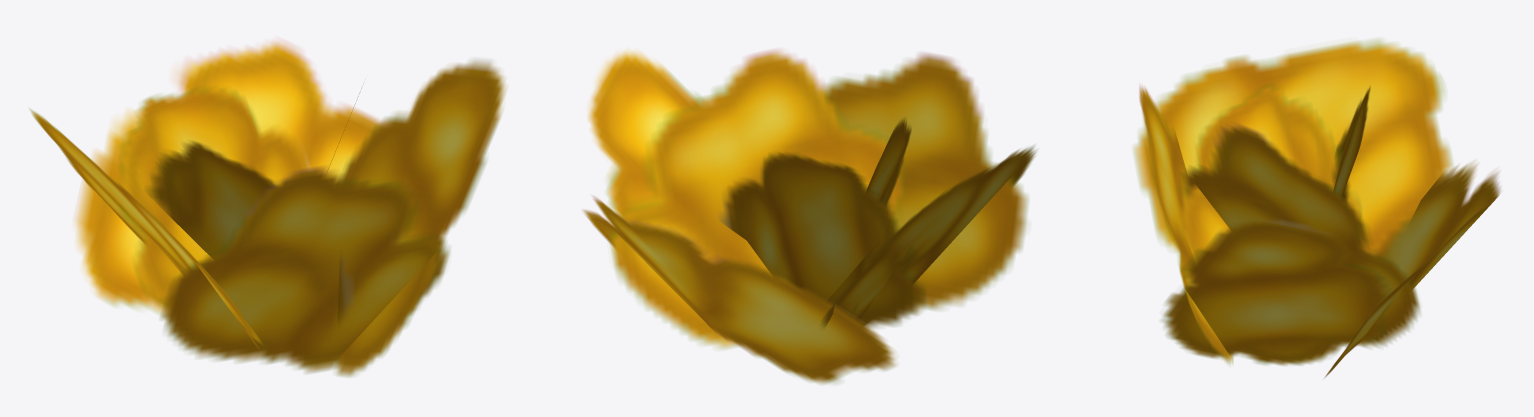
Rendered from PFlower4.glb.
3 views of the same model, side by side, from view 1: azimuth 30°, elevation 25°; view 2: azimuth 150°, elevation 25°; view 3: azimuth 270°, elevation 25° (orthographic). The views are drawn at different scales.
Visible parts, largest first — view 1: PFlower4; view 2: PFlower4; view 3: PFlower4.
Part boxes in pixels (x1,y1,x2,y2): PFlower4: (29,40,505,376); PFlower4: (583,49,1036,383); PFlower4: (1134,39,1500,377).
Size of the model in its own units: 1.19 by 0.8959 by 1.12.
1 material, 1 textured.
